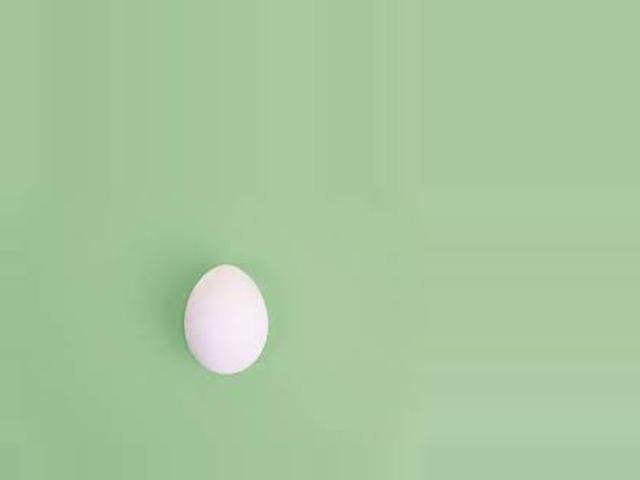egg: (183, 264, 268, 376)
